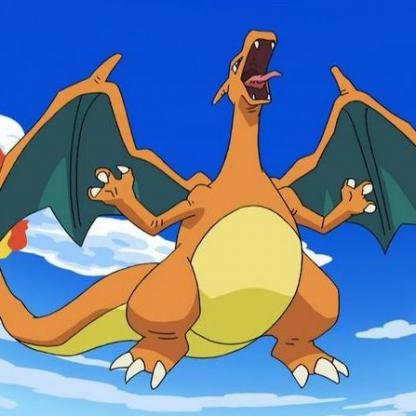Charizard: (1, 20, 416, 394)
